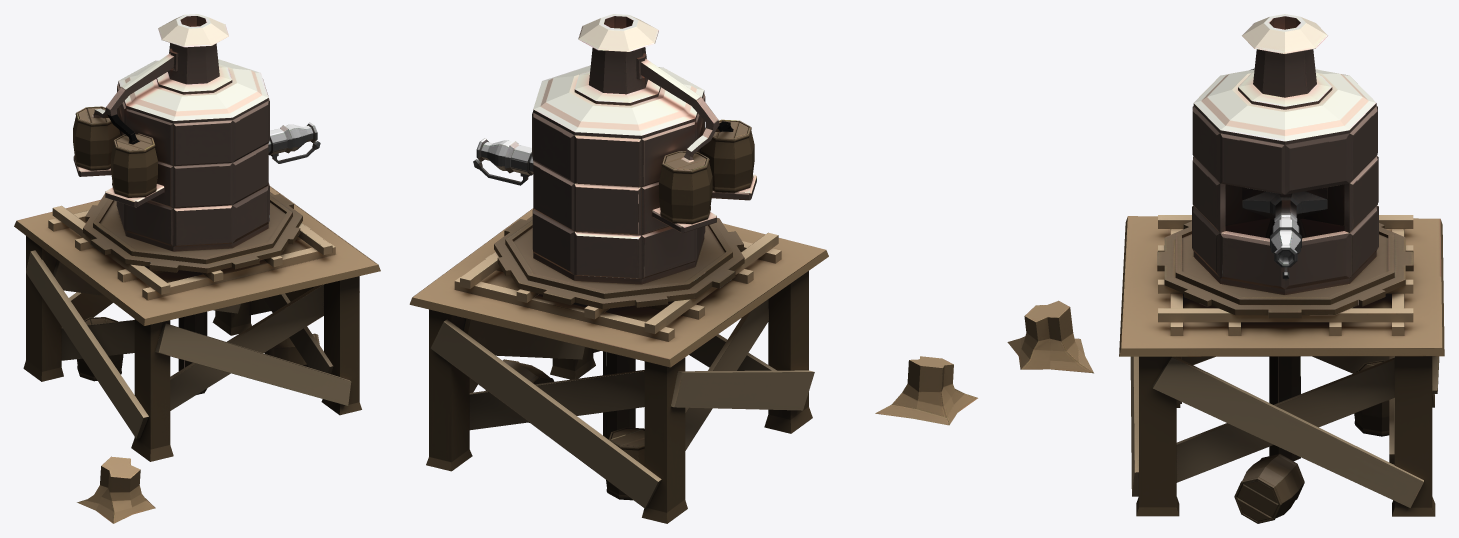
File: tile_flamethrower.fbx
3 renders of one model, left to right at view 1: azimuth 30°, elevation 25°; view 2: azimuth 150°, elevation 25°; view 3: azimuth 270°, elevation 25°, orthographic. The views are drawn at different scales.
Parts seen in each view (by area): view 1: Base, FlameThrower; view 2: Base, FlameThrower; view 3: Base, FlameThrower.
Boxes of the visible parts, box(x1,y1,x2,y2) form: Base: box(14, 186, 380, 523); FlameThrower: box(73, 14, 320, 394); Base: box(409, 208, 977, 523); FlameThrower: box(473, 14, 756, 439); Base: box(1007, 215, 1444, 523); FlameThrower: box(1157, 14, 1413, 461).
Bounding box in the file's own units: 0.0277 × 0.0299 × 0.027.
